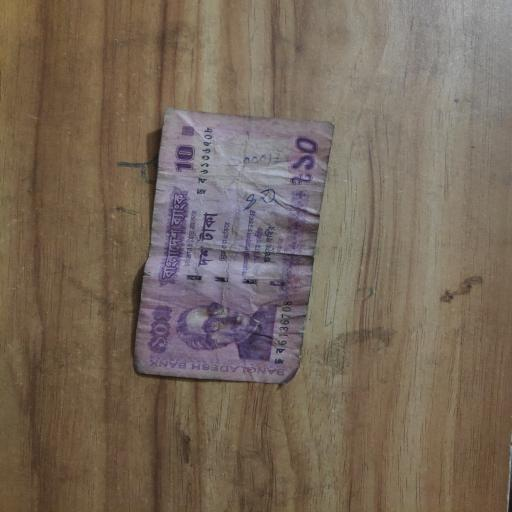10taka: (130, 108, 332, 382)
